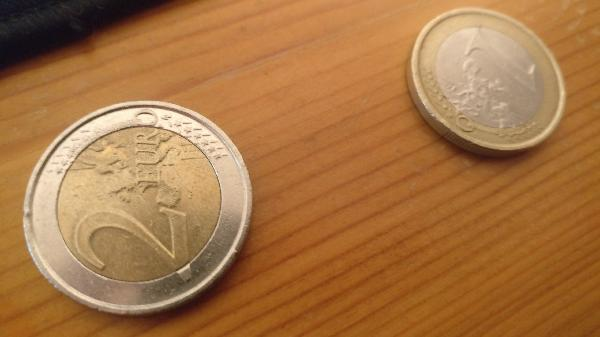One Euro: (405, 7, 568, 161)
Two Euro: (10, 99, 272, 312)
